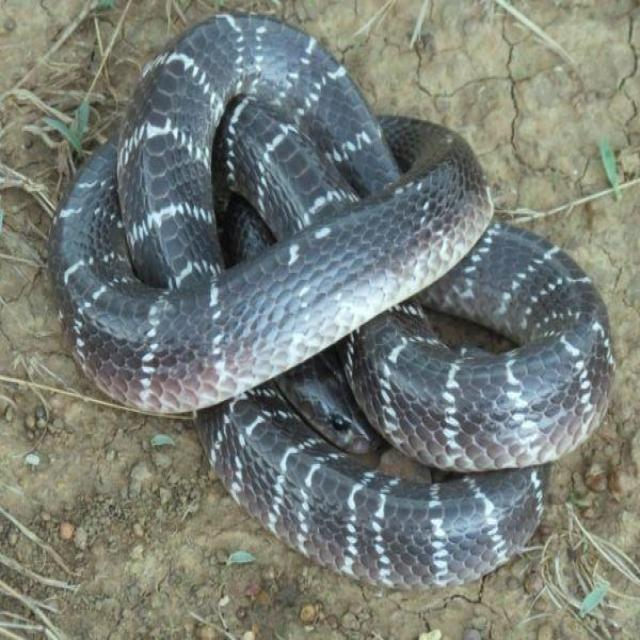Snake: (47, 9, 615, 591)
